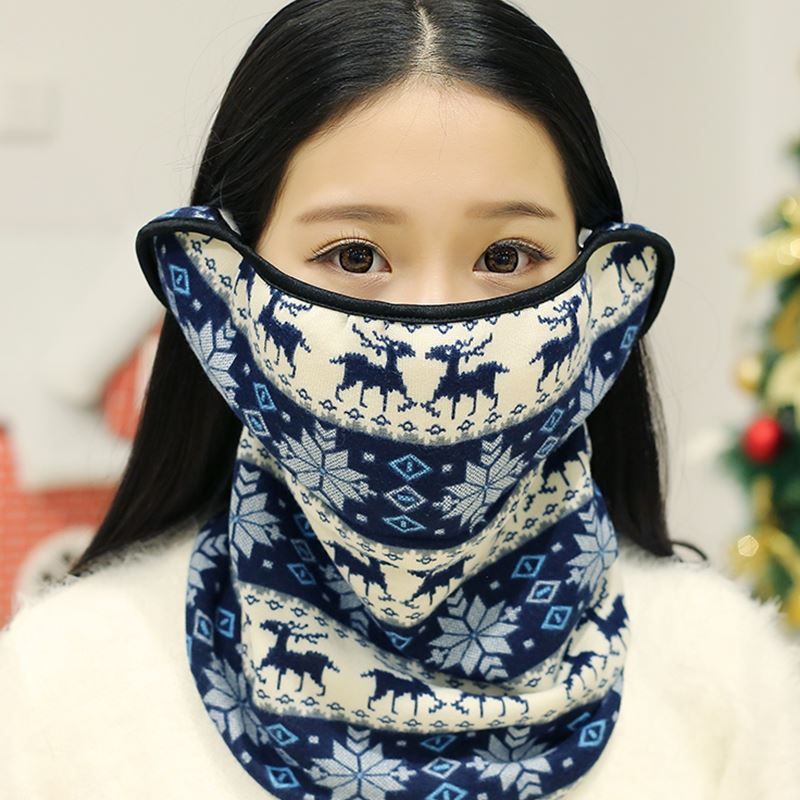face_mask: (260, 89, 584, 496)
